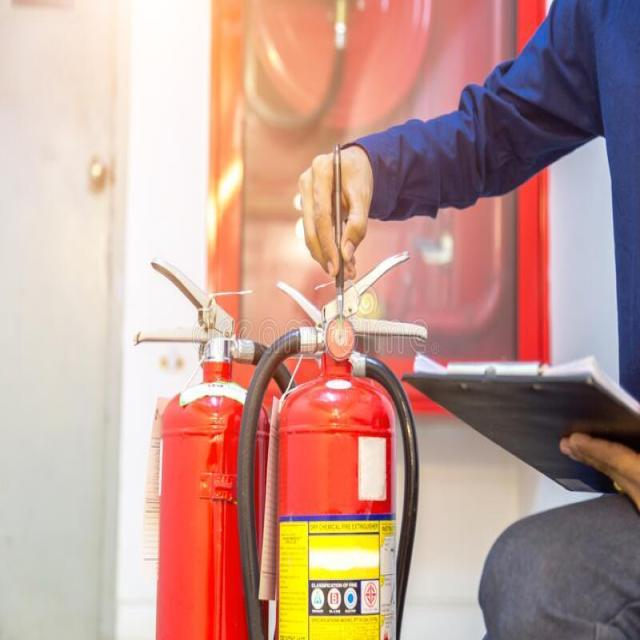fire_extinguisher: (233, 242, 432, 638), (130, 252, 304, 639)
